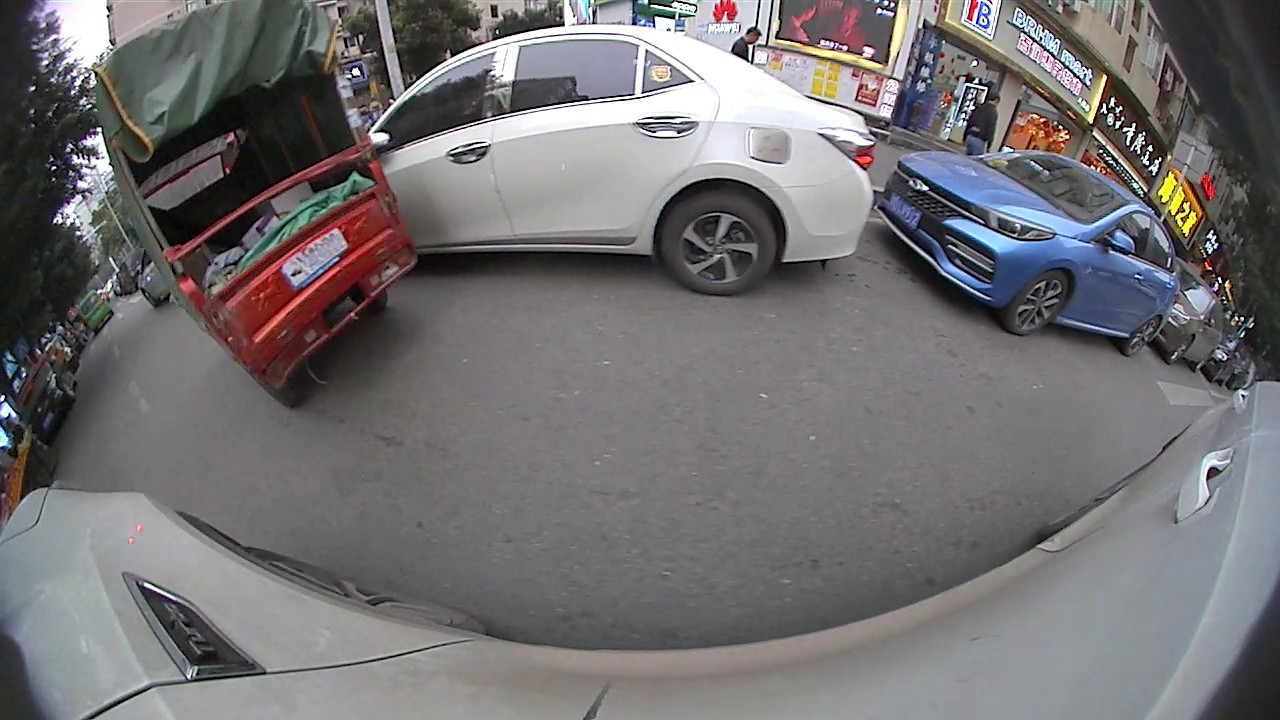car: (751, 16, 1154, 378), (70, 130, 409, 366), (32, 218, 103, 342)
front: (163, 286, 248, 367), (1065, 323, 1118, 370)
person: (272, 60, 317, 156)
rear: (907, 289, 1016, 378), (92, 317, 131, 355), (1121, 336, 1149, 363)
